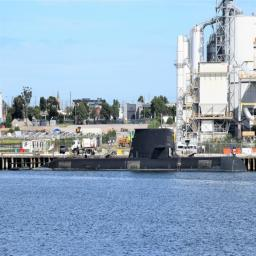submarine: (47, 128, 248, 173)
